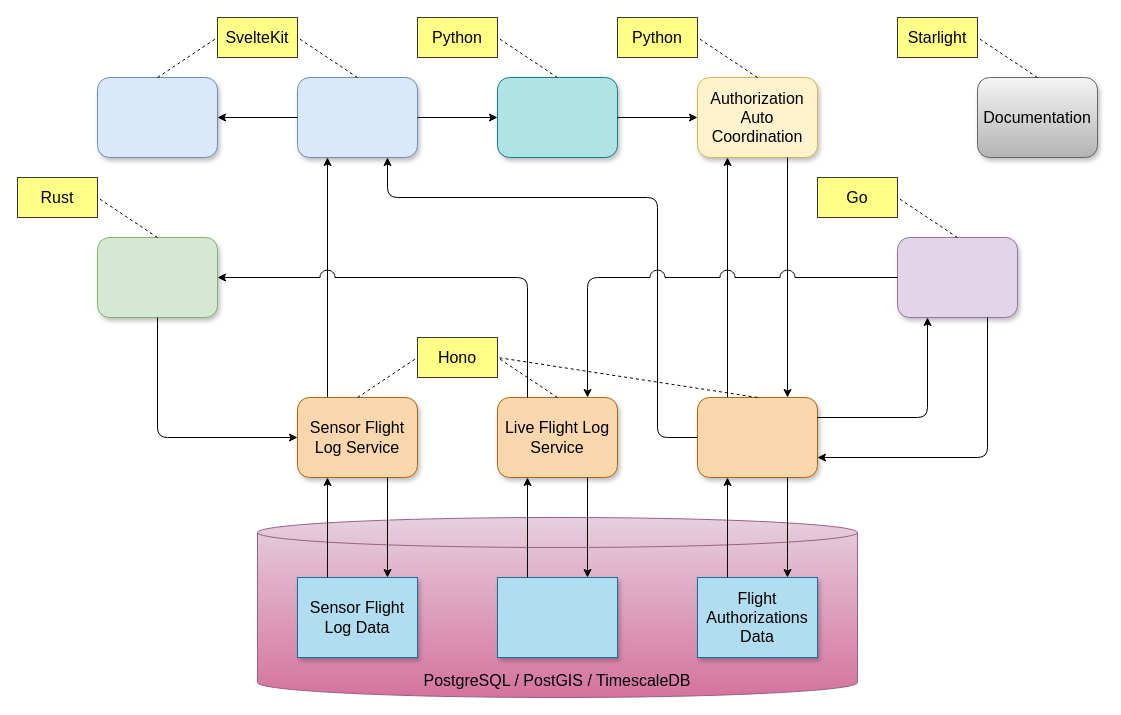
This 1121x715 diagram has some shape labels left out. Here are the shapes that lost their labels. From the top down, the centre of each, then its label:
the point at 158,118: Flight Area Dashboard Web Client
the point at 358,118: Flight Area Dashboard Web Server
the point at 558,118: Coordination Tuning
the point at 158,278: Sensors Array Simulator
the point at 958,278: Pilot and Control Simulator
the point at 758,438: Flight Authorizations Service
the point at 558,618: Live Flight Log Data
